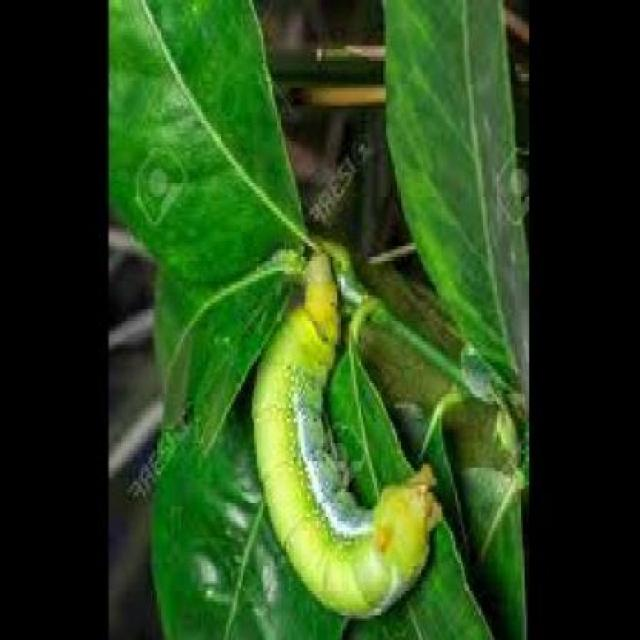Plaga: (239, 258, 452, 627)
